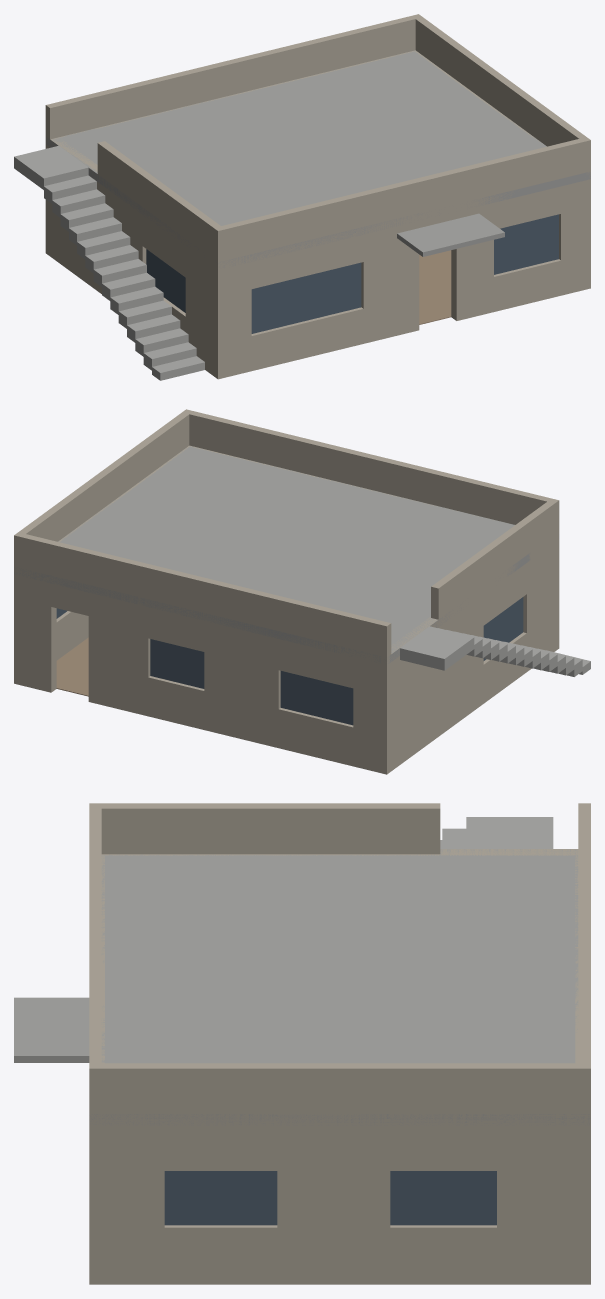
File: bungalow.lod0.glb
3 views of the same model, one above another, from view 1: azimuth 30°, elevation 25°; view 2: azimuth 150°, elevation 25°; view 3: azimuth 270°, elevation 25° (orthographic). The views are drawn at different scales.
Parts seen in each view (by area): view 1: bungalow; view 2: bungalow; view 3: bungalow.
Part boxes in pixels (<box>): bungalow: <box>14,14,590,380</box>; bungalow: <box>14,409,590,774</box>; bungalow: <box>14,803,590,1284</box>.
Bounding box in the file's own units: 11.2 × 3.8 × 9.2.
